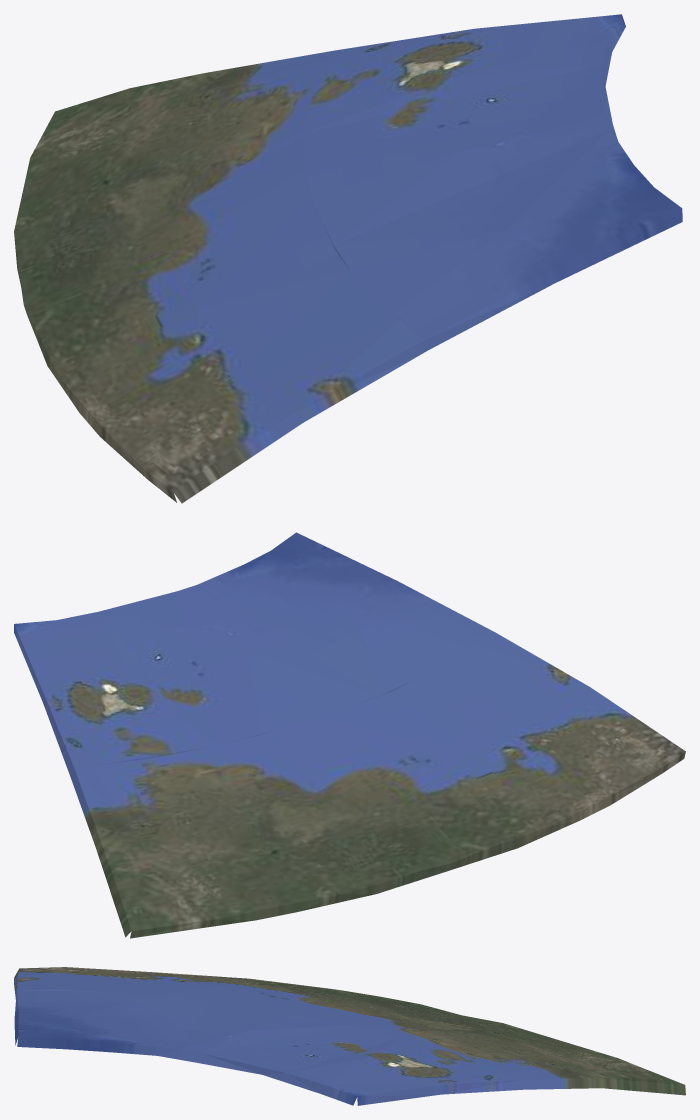
The picture shows the model from 3 angles, top to bottom: view 1: azimuth 30°, elevation 25°; view 2: azimuth 150°, elevation 25°; view 3: azimuth 270°, elevation 25°; orthographic projection. The views are drawn at different scales.
Size of the model in its own units: 1579513 by 391105 by 1750132.
1 material, 1 textured.
